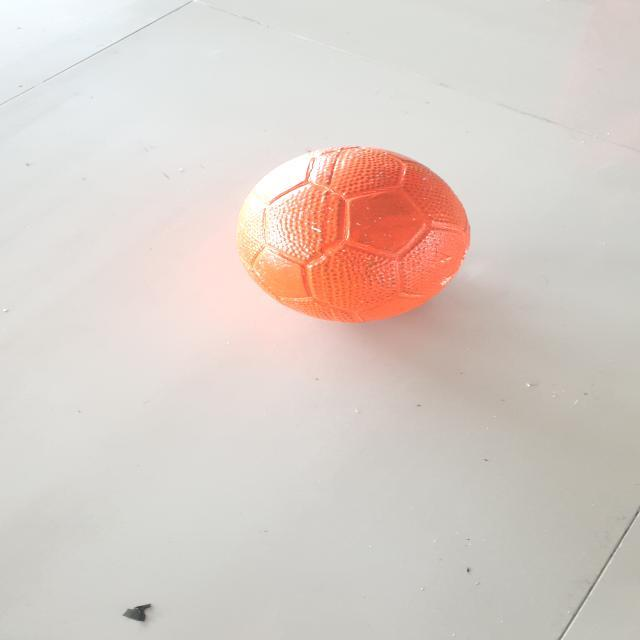bola: (223, 137, 481, 331)
